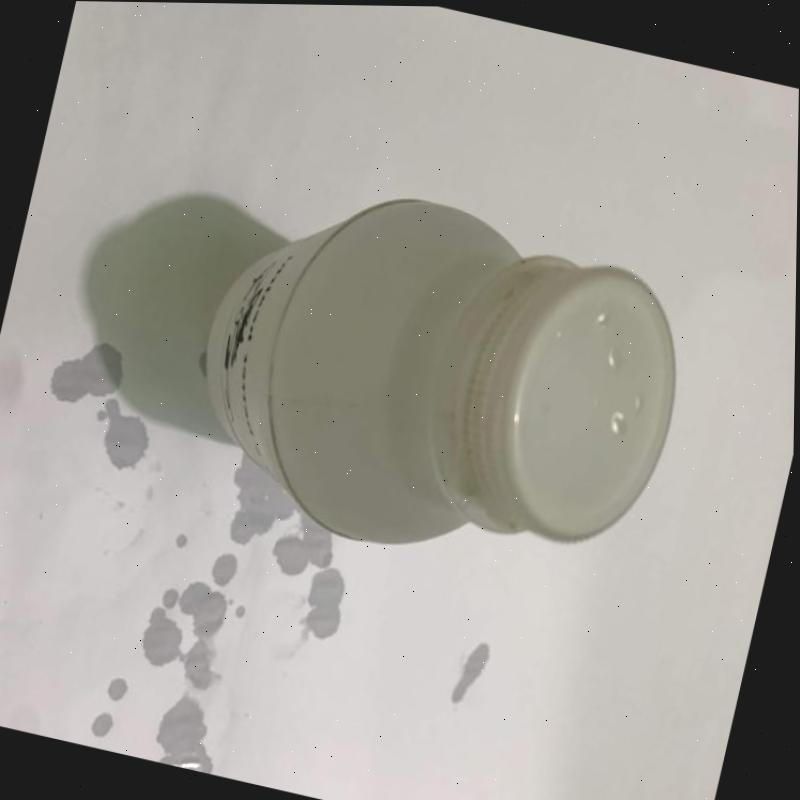botella: (165, 153, 708, 607)
